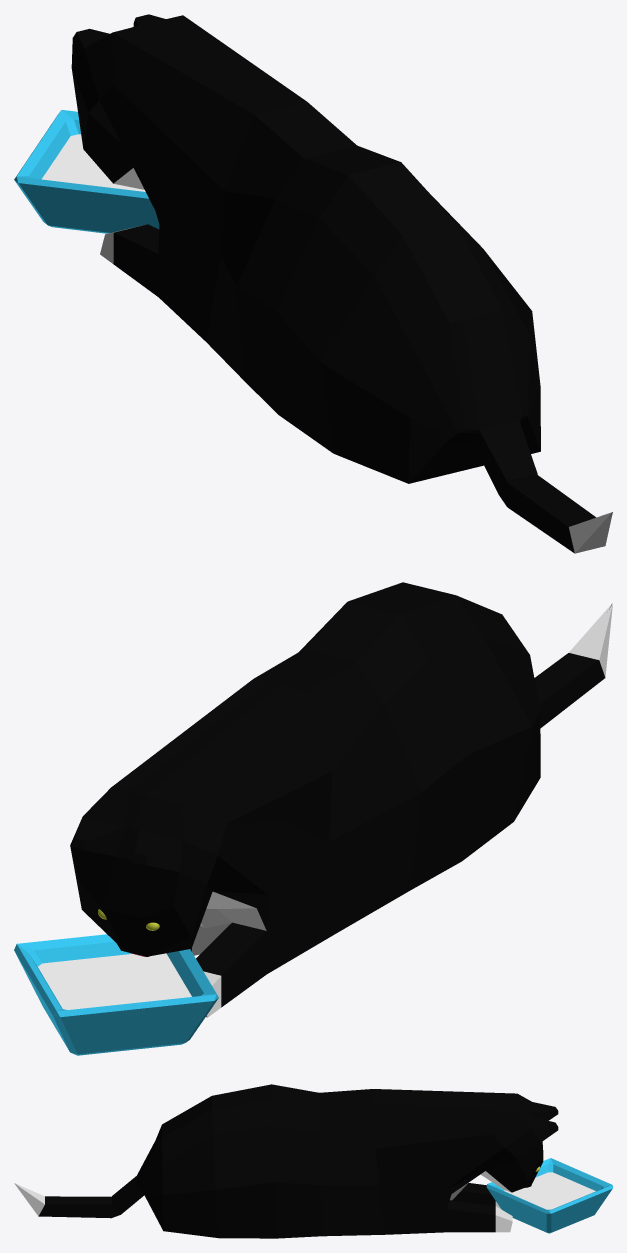
File: catDown.glb
The picture shows the model from 3 angles, top to bottom: view 1: azimuth 30°, elevation 25°; view 2: azimuth 150°, elevation 25°; view 3: azimuth 270°, elevation 25°; orthographic projection. The views are drawn at different scales.
Parts seen in each view (by area): view 1: catDown, bowl; view 2: catDown, bowl; view 3: catDown, bowl.
Boxes of the visible parts, <box> form: catDown: <box>71,14,612,553</box>; bowl: <box>14,110,159,233</box>; catDown: <box>70,582,612,1017</box>; bowl: <box>14,934,218,1055</box>; catDown: <box>14,1084,558,1238</box>; bowl: <box>486,1158,612,1233</box>.
Size of the model in its own units: 1.09 by 1.15 by 4.93.
